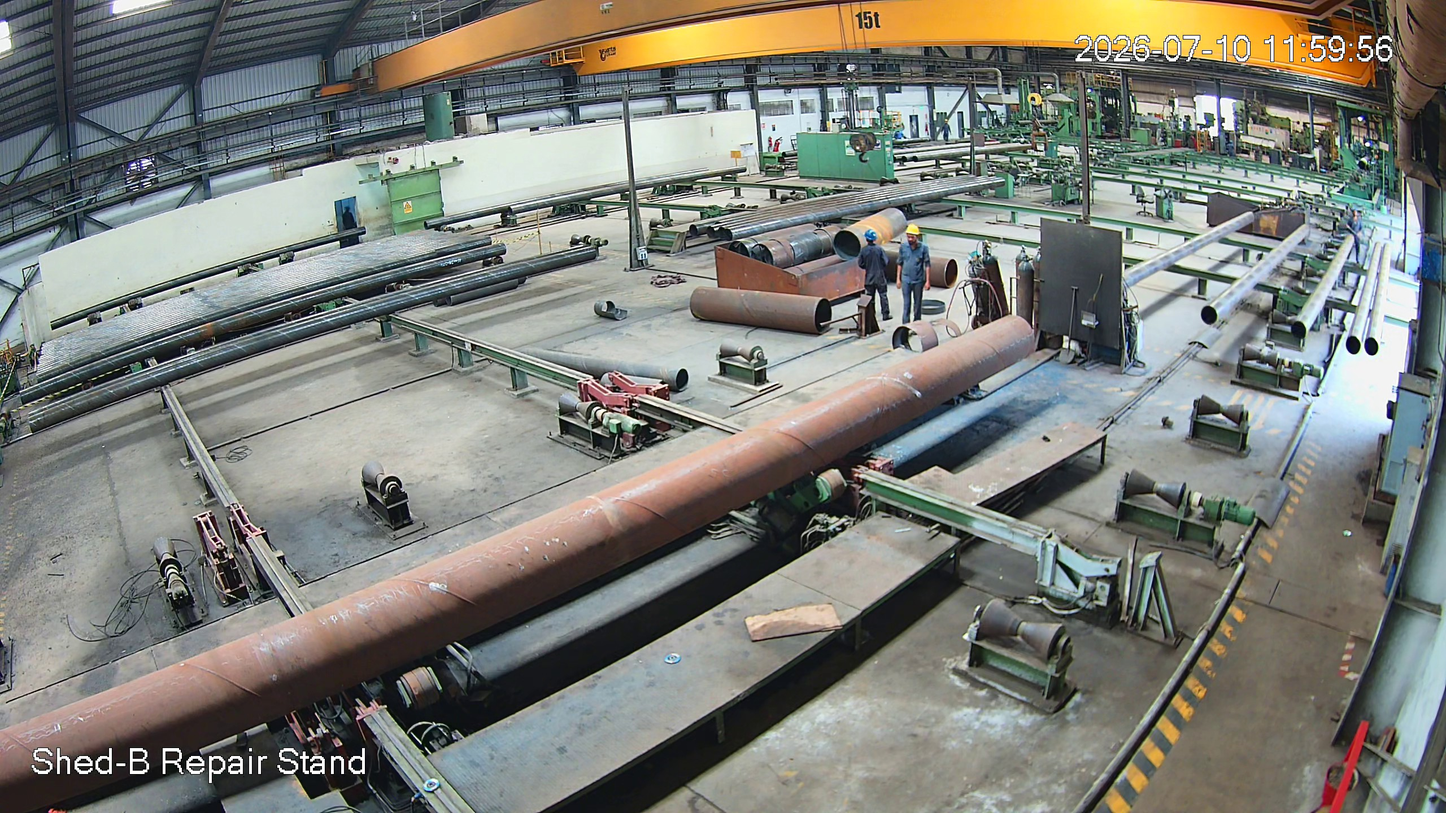Helmet: (900, 221, 921, 251), (861, 228, 878, 250)
Person: (894, 224, 937, 326), (858, 229, 892, 324)
